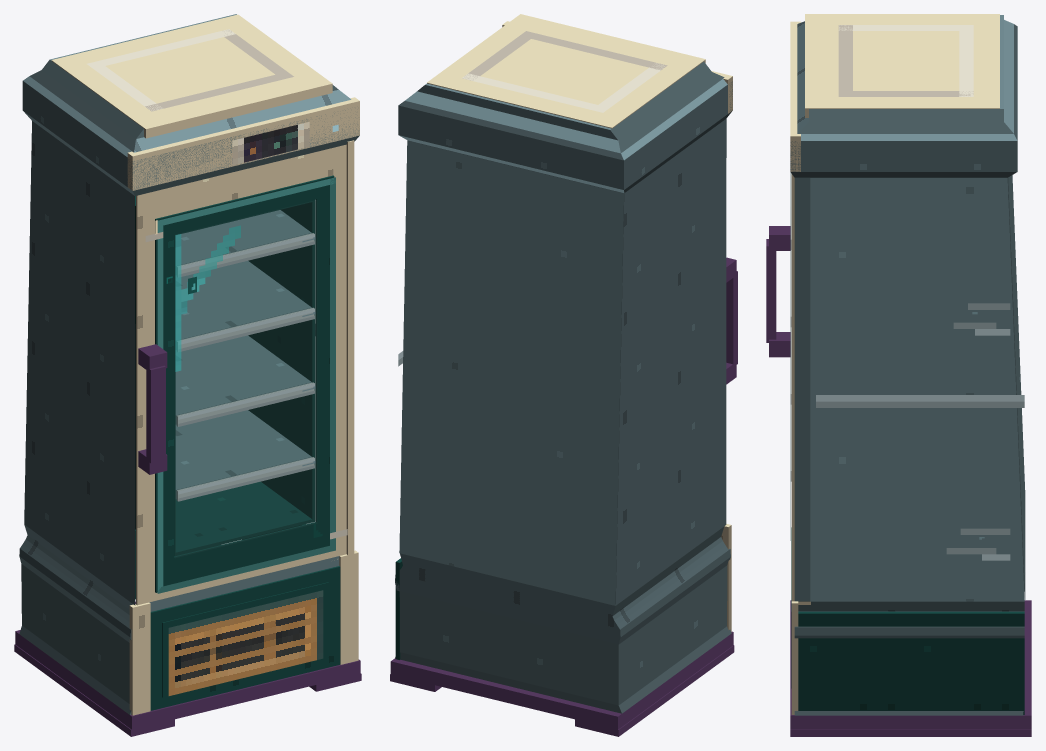
Rendered from vaccine-fridge-nano-decals-v6.glb.
3 renders of one model, left to right at view 1: azimuth 30°, elevation 25°; view 2: azimuth 150°, elevation 25°; view 3: azimuth 270°, elevation 25°, orthographic. The views are drawn at different scales.
Visible parts, largest first — view 1: source_hull, front_glass, nano_tile_top_surface, fixed_grille, cavity_right, crown_fascia, shelf_36, shelf_48, condenser_front_panel, shelf_60, cream_frame_left, cavity_floor (+32 smaller); view 2: source_hull, nano_tile_back_panel, nano_tile_top_surface, plinth_rail, foot_left, handle_grip, roof_inset_back_light, roof_inset_front_dark, roof_inset_left_light, roof_inset_right_dark, base_corner_left; view 3: nano_tile_side_panel, source_hull, side_base_panel_right, nano_tile_top_surface, plinth_rail, foot_right, nano_tile_back_panel, cream_corner_right, side_panel_semantic_seam_dark, side_panel_semantic_seam_light, crown_fascia, roof_inset_back_light (+7 smaller).
Part boxes in pixels (bbox=[...]): source_hull: bbox=[19, 14, 359, 714]; front_glass: bbox=[175, 200, 317, 557]; nano_tile_top_surface: bbox=[52, 14, 332, 128]; fixed_grille: bbox=[168, 590, 323, 695]; cavity_right: bbox=[248, 200, 315, 519]; crown_fascia: bbox=[127, 97, 359, 190]; shelf_36: bbox=[175, 410, 311, 498]; shelf_48: bbox=[175, 335, 311, 424]; condenser_front_panel: bbox=[150, 566, 340, 710]; shelf_60: bbox=[176, 261, 311, 349]; cream_frame_left: bbox=[136, 191, 154, 605]; cavity_floor: bbox=[135, 481, 315, 555]; source_hull: bbox=[395, 61, 732, 713]; nano_tile_back_panel: bbox=[399, 140, 623, 605]; nano_tile_top_surface: bbox=[427, 14, 705, 127]; plinth_rail: bbox=[390, 631, 733, 729]; foot_left: bbox=[575, 645, 734, 736]; handle_grip: bbox=[726, 271, 737, 366]; roof_inset_back_light: bbox=[462, 73, 609, 112]; roof_inset_front_dark: bbox=[520, 31, 667, 70]; roof_inset_left_light: bbox=[592, 63, 664, 111]; roof_inset_right_dark: bbox=[462, 31, 537, 80]; base_corner_left: bbox=[721, 524, 731, 631]; nano_tile_side_panel: bbox=[810, 178, 1024, 601]; source_hull: bbox=[790, 15, 1024, 715]; side_base_panel_right: bbox=[798, 611, 1024, 714]; nano_tile_top_surface: bbox=[805, 14, 999, 108]; plinth_rail: bbox=[790, 600, 1031, 729]; foot_right: bbox=[790, 729, 1031, 736]; nano_tile_back_panel: bbox=[1008, 175, 1025, 599]; cream_corner_right: bbox=[791, 174, 810, 604]; side_panel_semantic_seam_dark: bbox=[816, 401, 1024, 407]; side_panel_semantic_seam_light: bbox=[816, 395, 1024, 401]; crown_fascia: bbox=[790, 21, 800, 171]; roof_inset_back_light: bbox=[959, 25, 973, 96].
Size of the model in its own units: 1.21 by 3 by 1.17.
27 materials, 14 textured.
